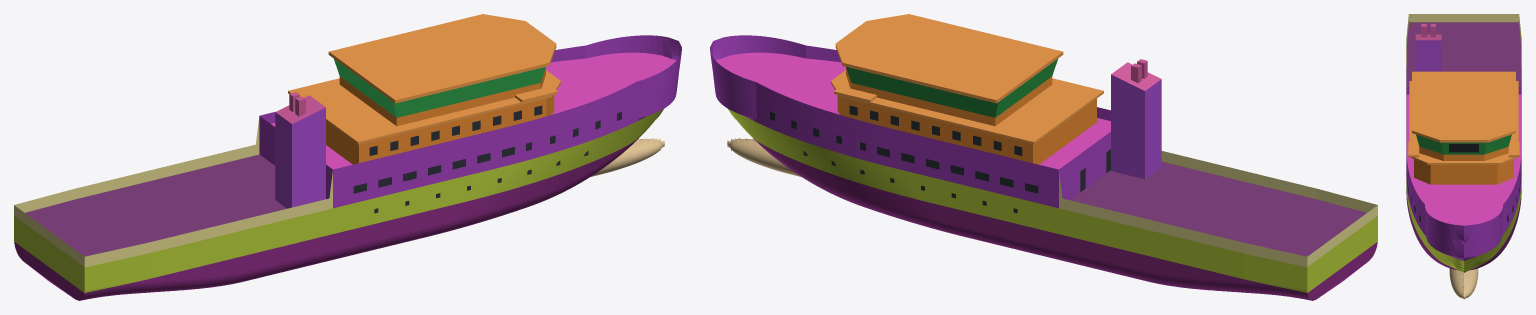
Rendered from rcrv_199_research_vessel_exterior.glb.
3 views of the same model, side by side, from view 1: azimuth 30°, elevation 25°; view 2: azimuth 150°, elevation 25°; view 3: azimuth 270°, elevation 25° (orthographic). The views are drawn at different scales.
Visible parts, largest first — view 1: exterior; view 2: exterior; view 3: exterior.
Part boxes in pixels (<box>): exterior: <box>14,14,681,300</box>; exterior: <box>710,14,1377,300</box>; exterior: <box>1406,14,1521,299</box>.
Bounding box in the file's own units: 61.2 × 15.9 × 12.46.
